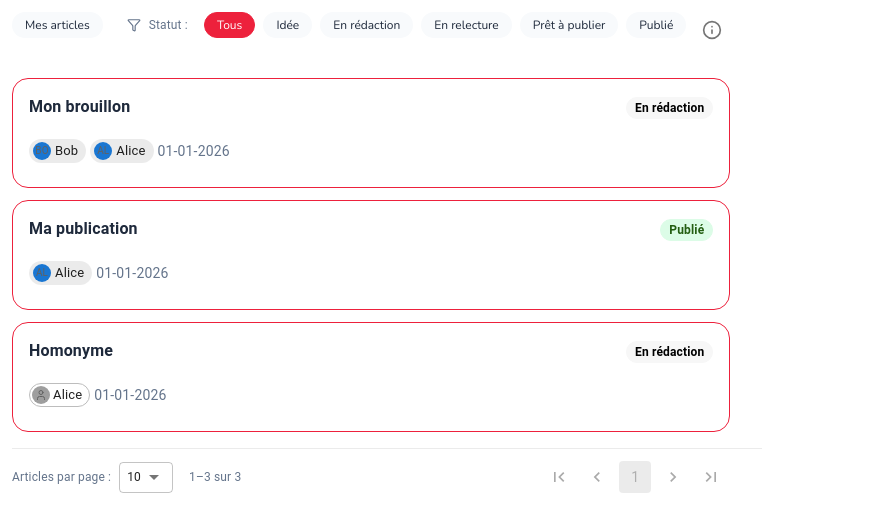
Scenario: Mes articles › ne rapproche pas les auteurs sans email d'une session sans email
Click the button "Mes articles".
click(57, 25)  # box [12, 12, 103, 38]
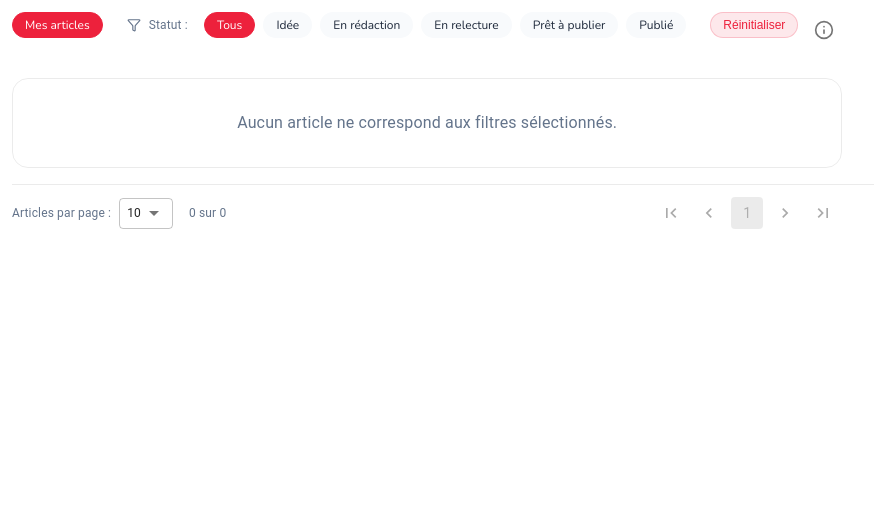
Result: the text "Homonyme" is gone
Result: the text "Aucun article ne correspond aux filtres sélectionnés." is shown at [12, 78, 842, 168]
